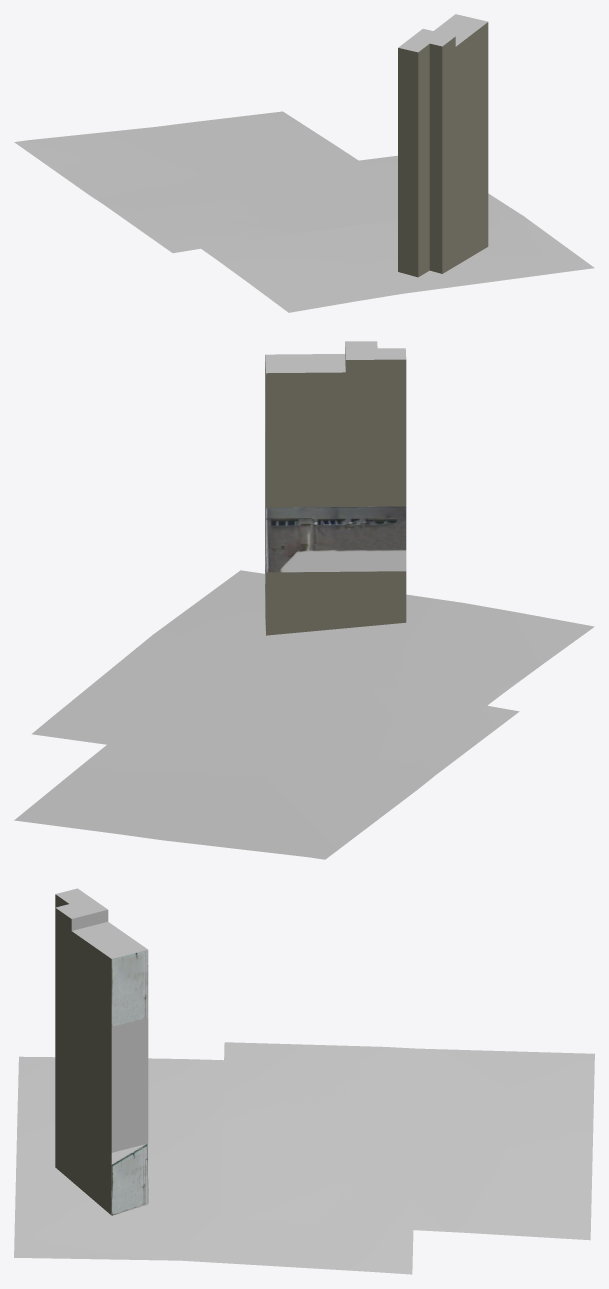
Rendered from edifício+centro+13.fbx.
3 views of the same model, one above another, from view 1: azimuth 30°, elevation 25°; view 2: azimuth 150°, elevation 25°; view 3: azimuth 270°, elevation 25° (orthographic). The views are drawn at different scales.
Visible parts, largest first — view 1: Google_Earth_Terrain1, Google_Earth_Terrain, Model; view 2: Google_Earth_Terrain, Google_Earth_Terrain1, Model; view 3: Google_Earth_Terrain1, Google_Earth_Terrain, Model.
Part boxes in pixels (<box>): Google_Earth_Terrain1: <box>14,111,397,253</box>; Google_Earth_Terrain: <box>119,155,594,312</box>; Model: <box>398,14,488,277</box>; Google_Earth_Terrain: <box>31,570,594,784</box>; Google_Earth_Terrain1: <box>14,663,519,859</box>; Model: <box>265,341,406,635</box>; Google_Earth_Terrain1: <box>220,1042,594,1240</box>; Google_Earth_Terrain: <box>14,1056,417,1274</box>; Model: <box>55,888,148,1215</box>.
Size of the model in its own units: 72.21 by 52.67 by 95.35.
